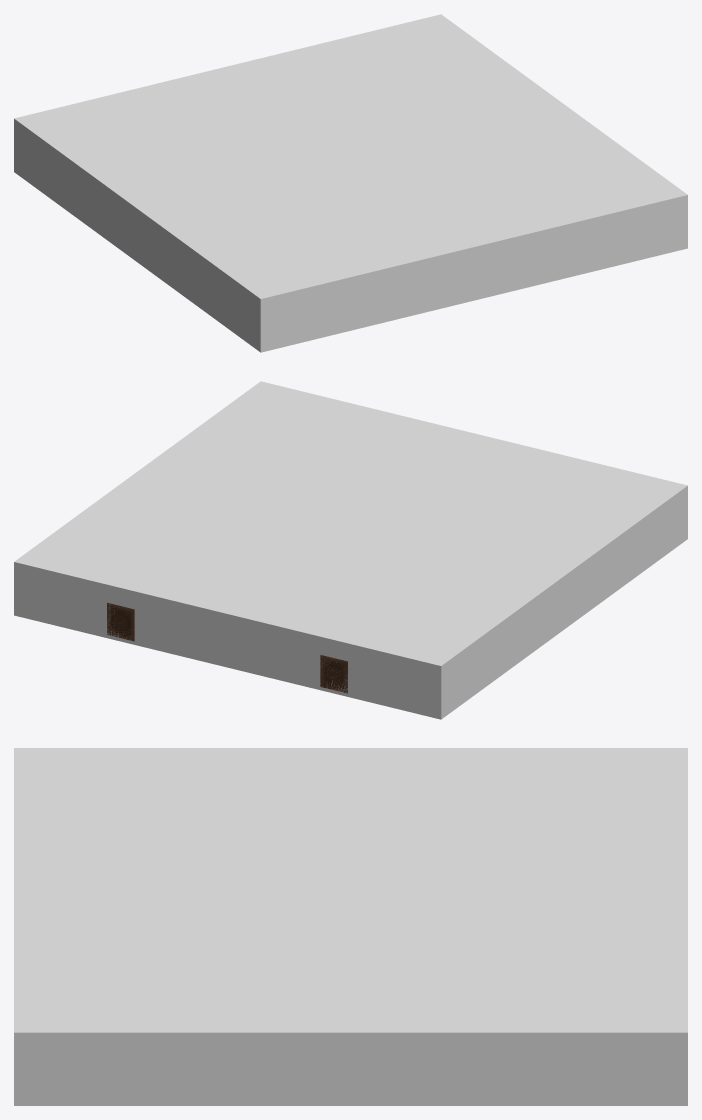
Rendered from house_floor.glb.
The picture shows the model from 3 angles, top to bottom: view 1: azimuth 30°, elevation 25°; view 2: azimuth 150°, elevation 25°; view 3: azimuth 270°, elevation 25°; orthographic projection. The views are drawn at different scales.
Visible parts, largest first — view 1: COL_house_floor_static_00; view 2: COL_house_floor_static_00, house_floor_static; view 3: COL_house_floor_static_00.
Part boxes in pixels (bbox=[...]): COL_house_floor_static_00: bbox=[14, 14, 687, 352]; COL_house_floor_static_00: bbox=[14, 381, 687, 719]; house_floor_static: bbox=[107, 603, 347, 693]; COL_house_floor_static_00: bbox=[14, 748, 687, 1105].
Size of the model in its own units: 2 by 0.24 by 2.
2 materials, 2 textured.
